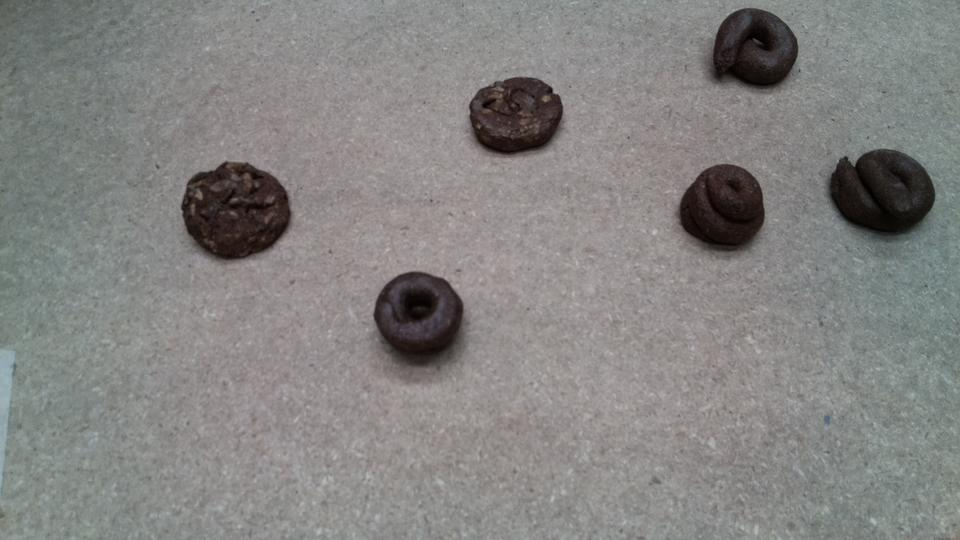poop: (176, 156, 294, 263), (827, 134, 942, 242), (674, 152, 771, 256), (369, 265, 466, 365), (463, 70, 565, 157), (708, 8, 802, 95)
